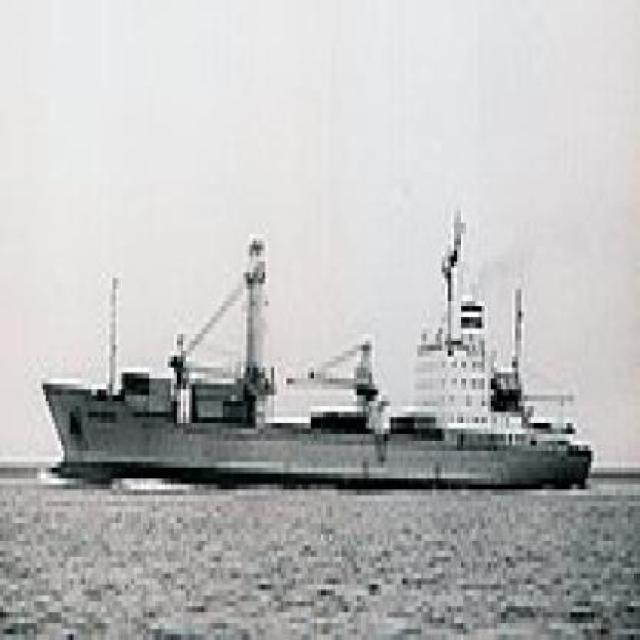container: (34, 157, 602, 513)
